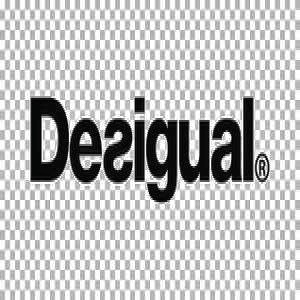desigual: (258, 44, 283, 132)
